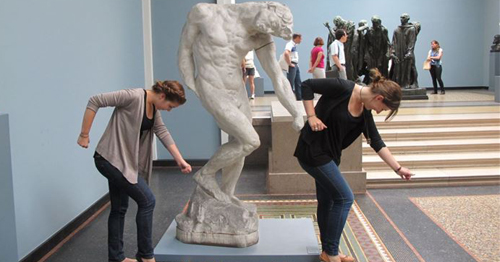person: (300, 62, 420, 200), (81, 60, 196, 186)
